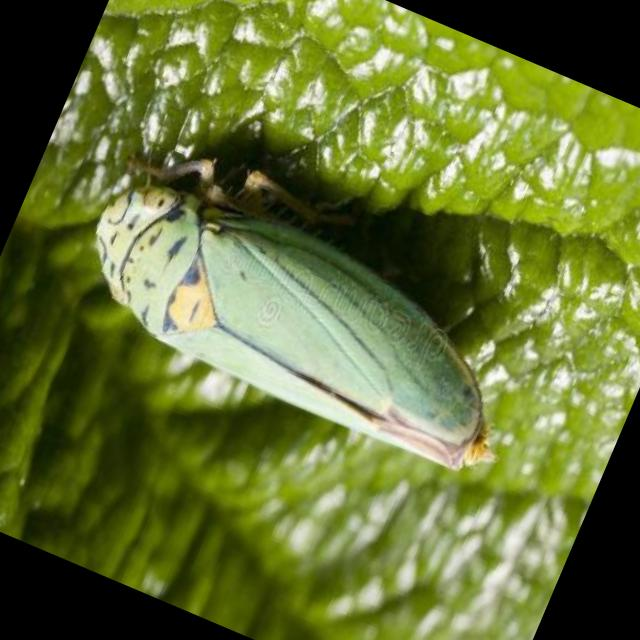green-leafhopper: (56, 149, 538, 491)
